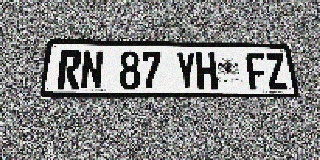7: (141, 51, 162, 90)
8: (119, 51, 140, 90)
F: (245, 53, 269, 90)
H: (196, 52, 218, 90)
N: (80, 50, 104, 90)
R: (57, 50, 82, 90)
Y: (175, 52, 197, 90)
Z: (264, 53, 288, 90)
